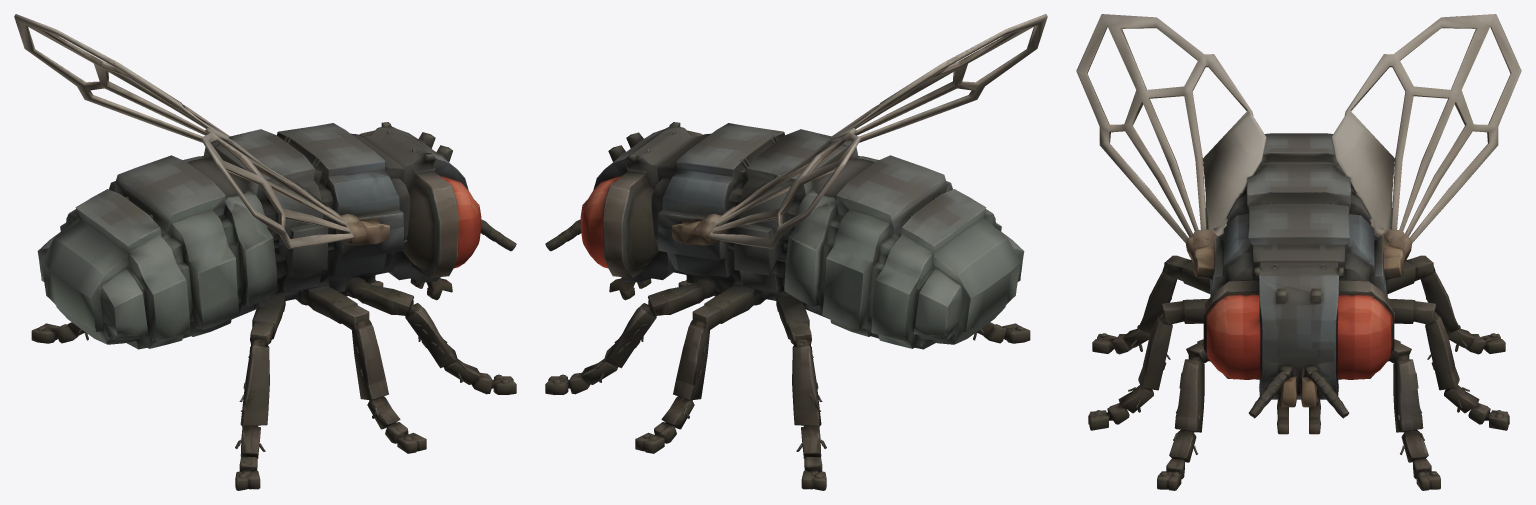
The model's file is call-pcxlnqzbrxqj8kz8opqjr9kg-2.glb.
3 renders of one model, left to right at view 1: azimuth 30°, elevation 25°; view 2: azimuth 150°, elevation 25°; view 3: azimuth 270°, elevation 25°, orthographic. The views are drawn at different scales.
Parts seen in each view (by area): view 1: tripo_node_ccc2fd8a-c4bc-46c3-bf99-49ebe2532cf8; view 2: tripo_node_ccc2fd8a-c4bc-46c3-bf99-49ebe2532cf8; view 3: tripo_node_ccc2fd8a-c4bc-46c3-bf99-49ebe2532cf8.
Part boxes in pixels (box(x1,y1,x2,y2)): tripo_node_ccc2fd8a-c4bc-46c3-bf99-49ebe2532cf8: box(14, 14, 516, 490); tripo_node_ccc2fd8a-c4bc-46c3-bf99-49ebe2532cf8: box(545, 14, 1047, 490); tripo_node_ccc2fd8a-c4bc-46c3-bf99-49ebe2532cf8: box(1076, 14, 1521, 490).
Size of the model in its own units: 1 by 0.7456 by 0.9295.
1 material, 1 textured.
